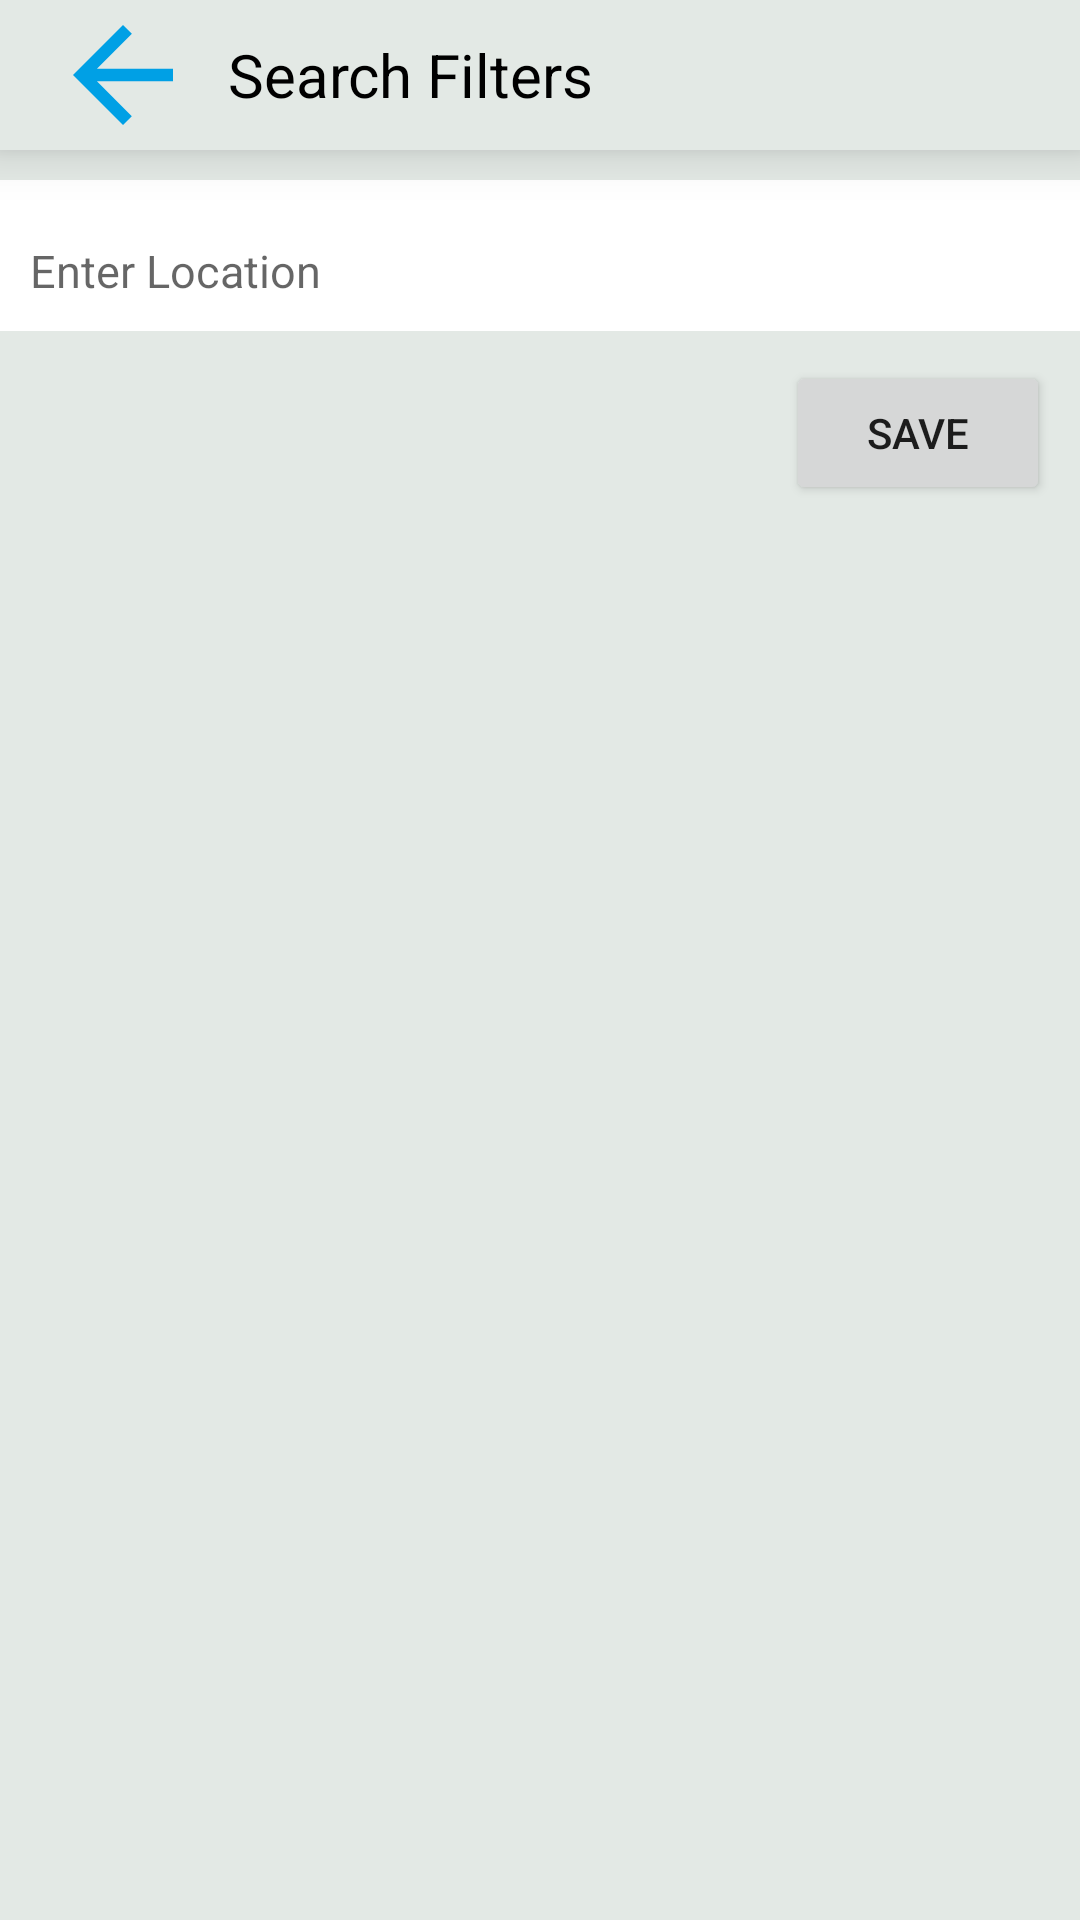

Icons on this 1080*1920 Android screen, each with the point to tap as point (x, y):
back arrow: point (123, 75)
